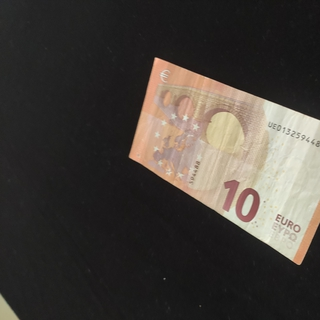10EUROBack: (128, 56, 320, 265)
